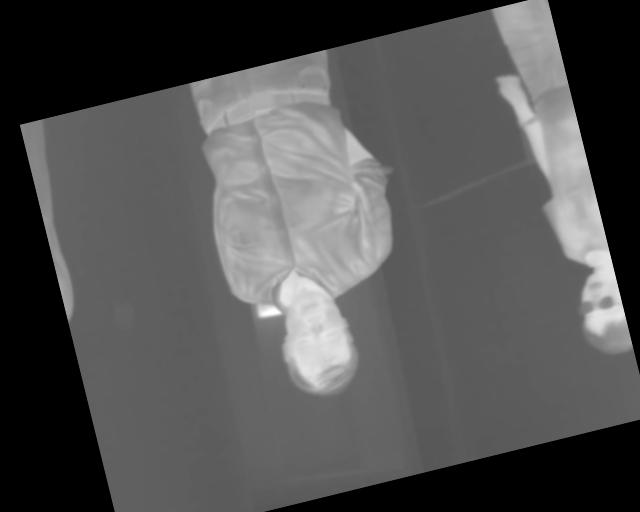face: (268, 278, 368, 405), (570, 267, 633, 361)
